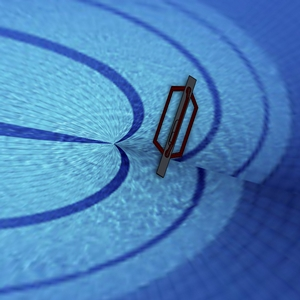submarine: (126, 39, 218, 186)
